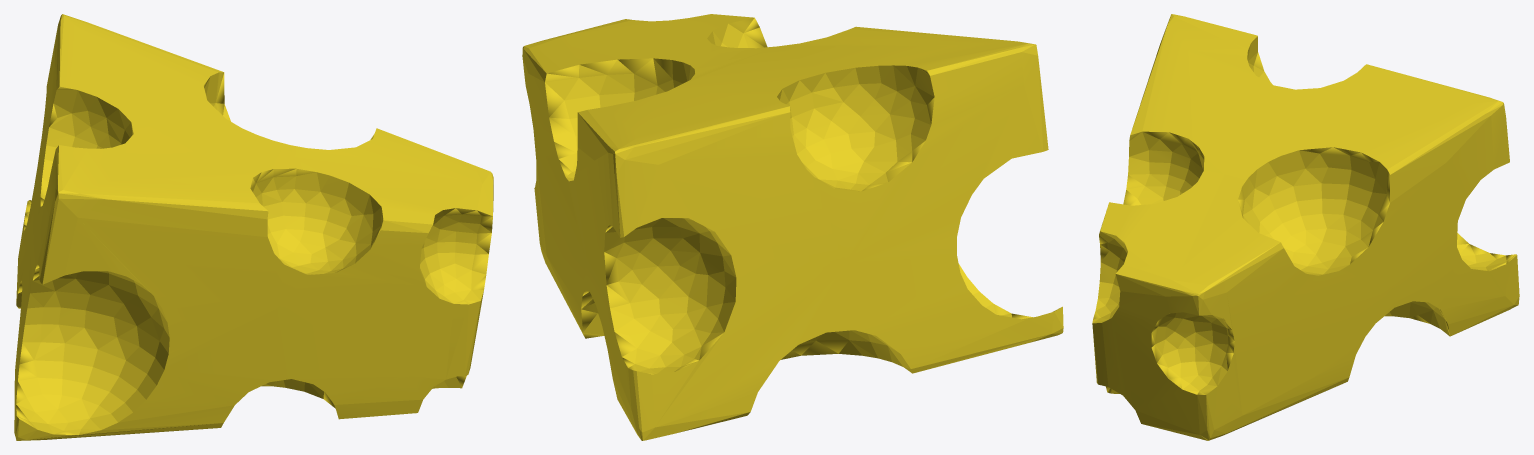
Rendered from formaggio_LOD0.fbx.
3 views of the same model, side by side, from view 1: azimuth 30°, elevation 25°; view 2: azimuth 150°, elevation 25°; view 3: azimuth 270°, elevation 25° (orthographic). The views are drawn at different scales.
Visible parts, largest first — view 1: clothes_018; view 2: clothes_018; view 3: clothes_018.
Boxes of the visible parts, box(x1,y1,x2,y2) form: clothes_018: box(14, 14, 493, 440); clothes_018: box(522, 14, 1063, 440); clothes_018: box(1092, 14, 1519, 440).
Size of the model in its own units: 63.08 by 34.88 by 54.96.
